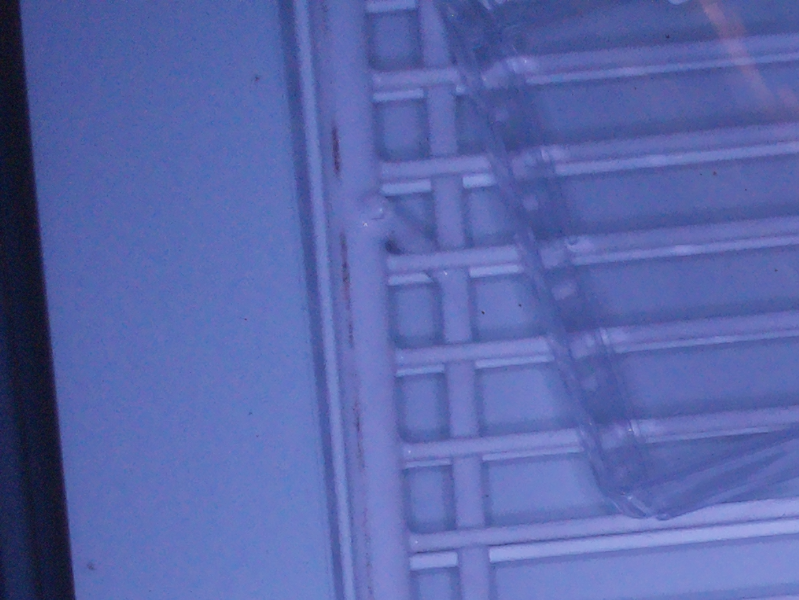plate: (431, 1, 798, 524)
